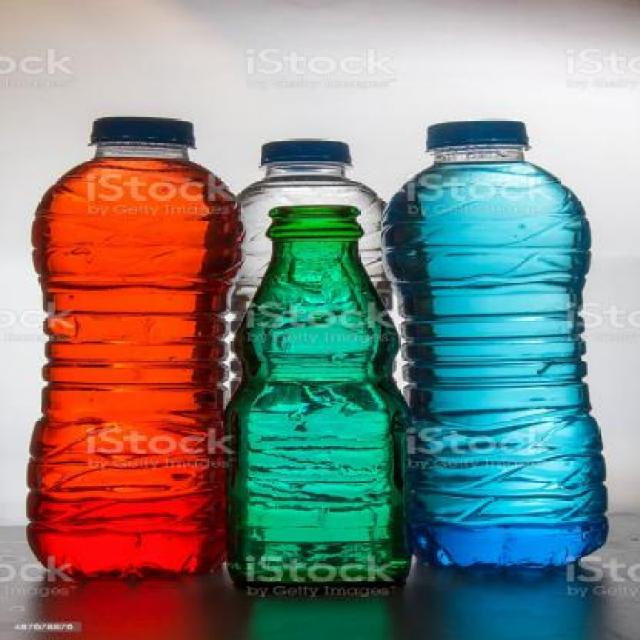Drinking: (382, 107, 630, 580), (38, 106, 214, 580), (238, 191, 406, 592)
